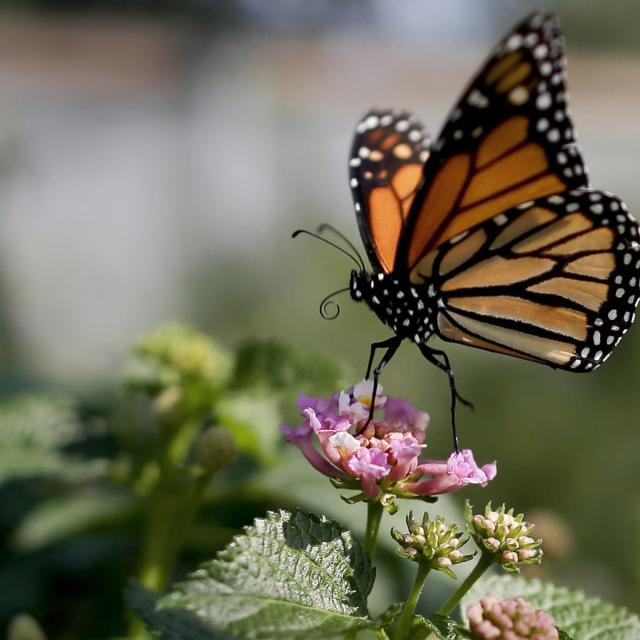butterfly: (293, 13, 640, 450)
